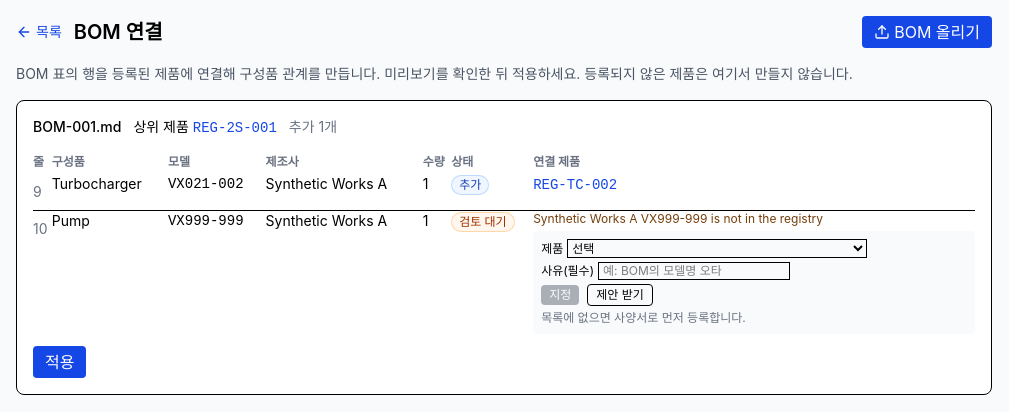
Test: BomPage › says when the preview is out of date instead of applying
This screenshot has width=1009, height=412.
Click the button "적용": [60, 362] box [33,346,86,378]
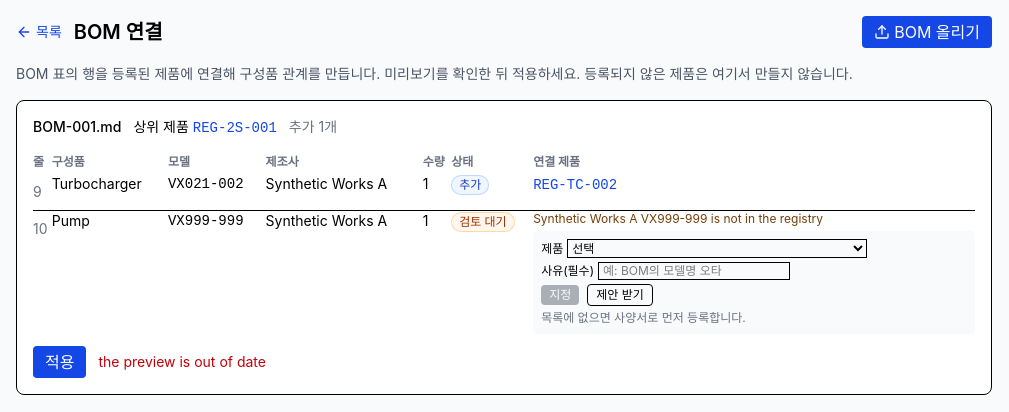
Result: the message shows "out of date" at [98,353,266,370]
